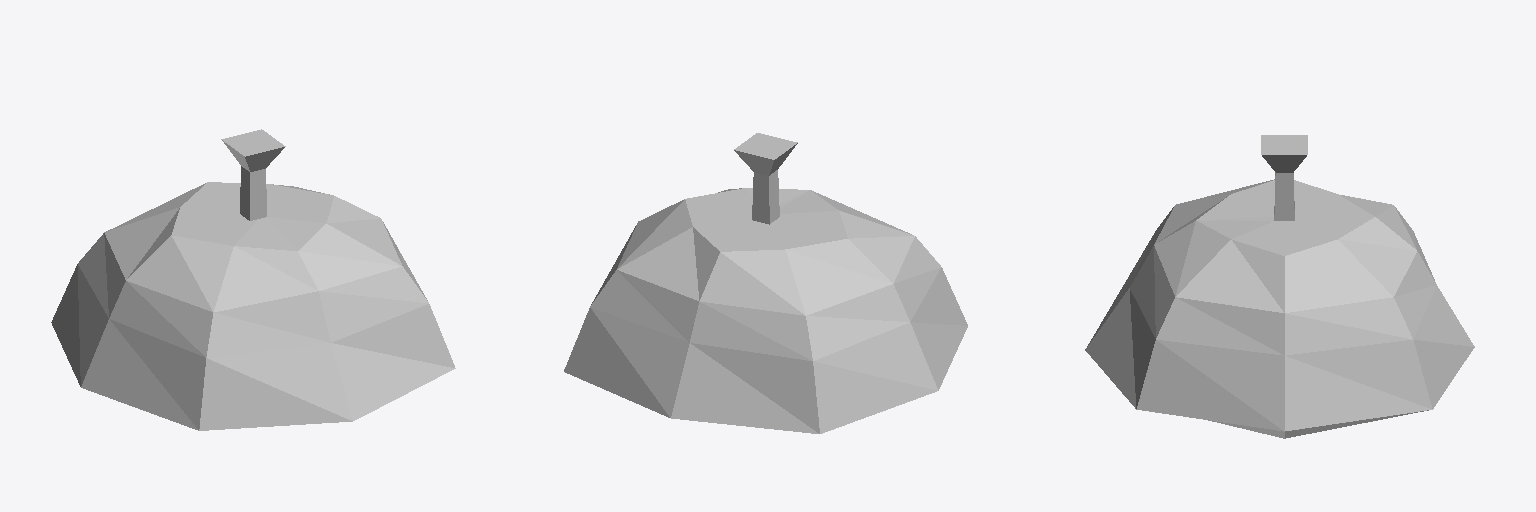
File: ceiling_light.obj
The picture shows the model from 3 angles: view 1: azimuth 30°, elevation 25°; view 2: azimuth 150°, elevation 25°; view 3: azimuth 270°, elevation 25°; orthographic projection.
Parts seen in each view (by area): view 1: Cube; view 2: Cube; view 3: Cube.
Part boxes in pixels (left/top/right/bottom): Cube: left=51, top=129, right=455, bottom=430; Cube: left=564, top=133, right=967, bottom=433; Cube: left=1085, top=135, right=1474, bottom=438.
Bounding box in the file's own units: 5.56 × 3.42 × 5.42.